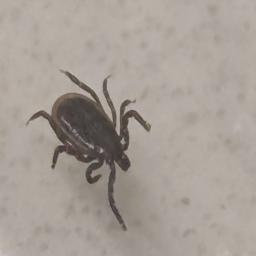Ixodes scapularis: (31, 70, 150, 232)
